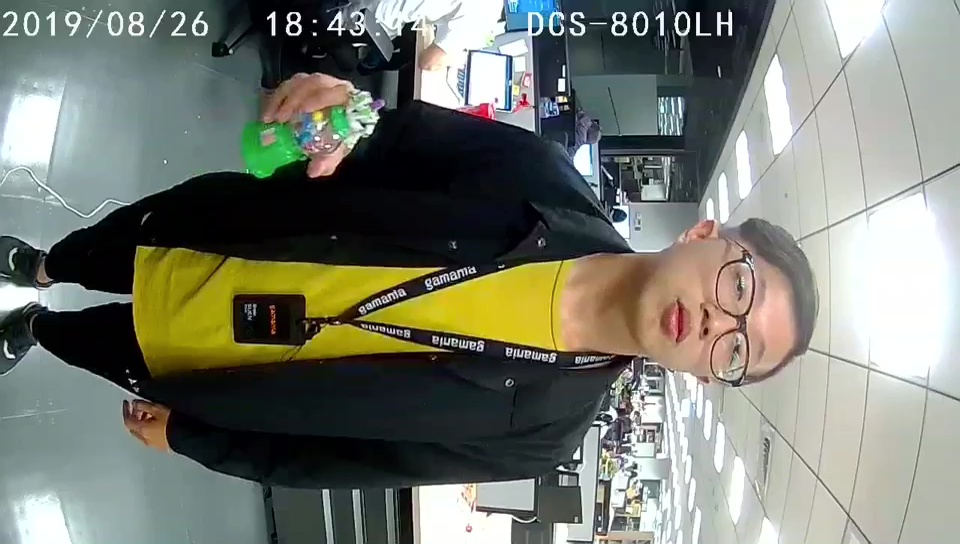buzz: (240, 90, 384, 178)
